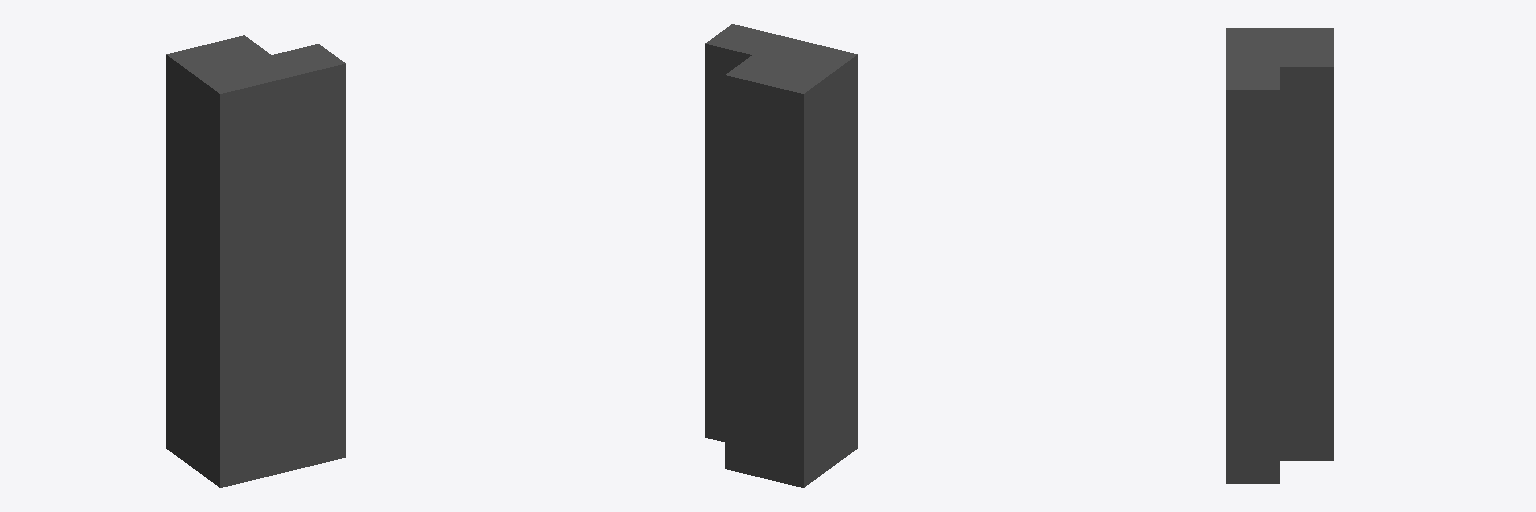
File: Barcode.obj
3 renders of one model, left to right at view 1: azimuth 30°, elevation 25°; view 2: azimuth 150°, elevation 25°; view 3: azimuth 270°, elevation 25°, orthographic.
Visible parts, largest first — view 1: Solid1; view 2: Solid1; view 3: Solid1.
Part boxes in pixels (x1,y1,x2,y2): Solid1: (166, 35, 345, 487); Solid1: (705, 24, 857, 487); Solid1: (1226, 28, 1333, 483).
Size of the model in its own units: 4 by 12 by 3.